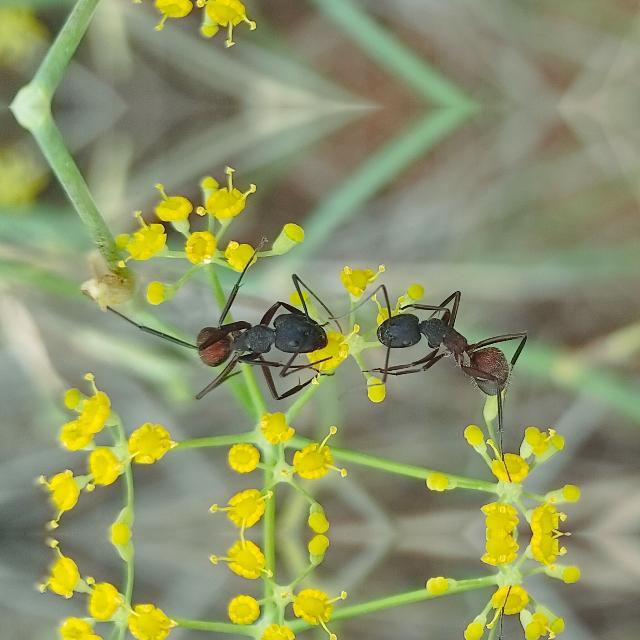Camponotus: (155, 272, 353, 396), (359, 286, 539, 402)
